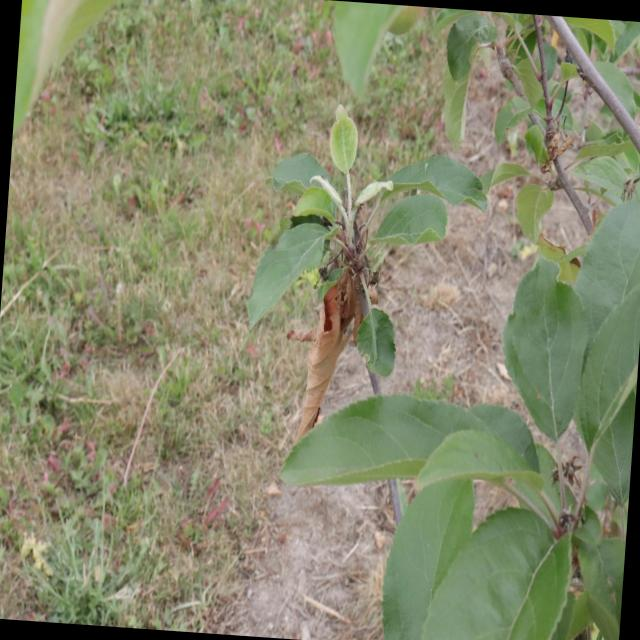-FireBlight-: (306, 233, 364, 445)
